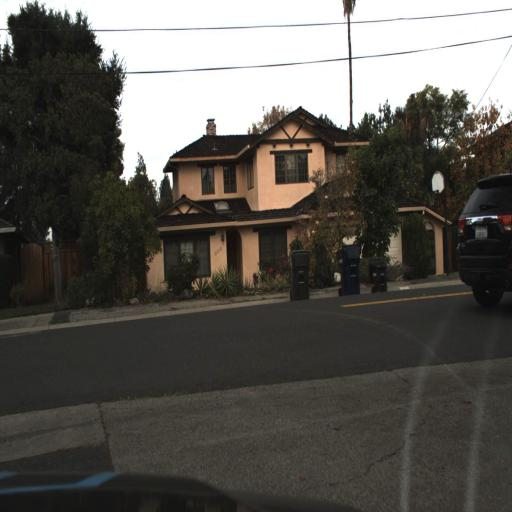car: (456, 172, 512, 310)
